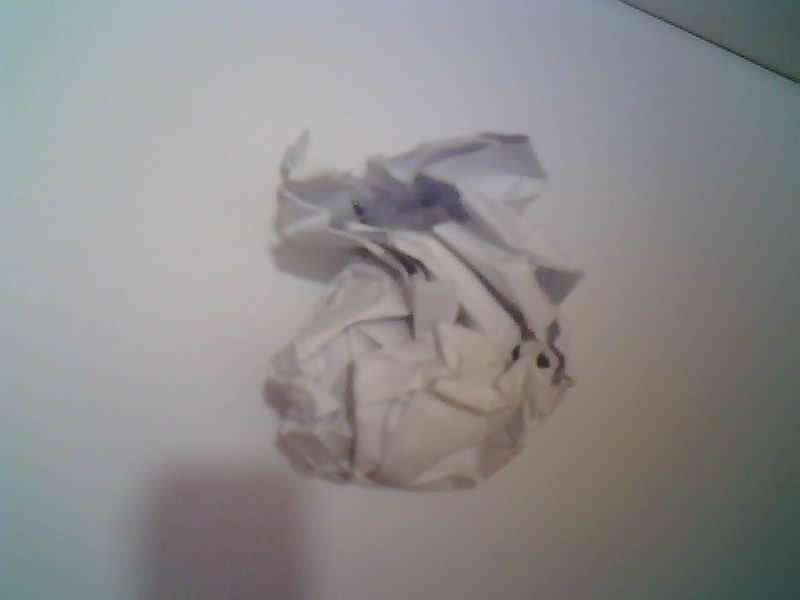biodegradable: (267, 133, 582, 489)
